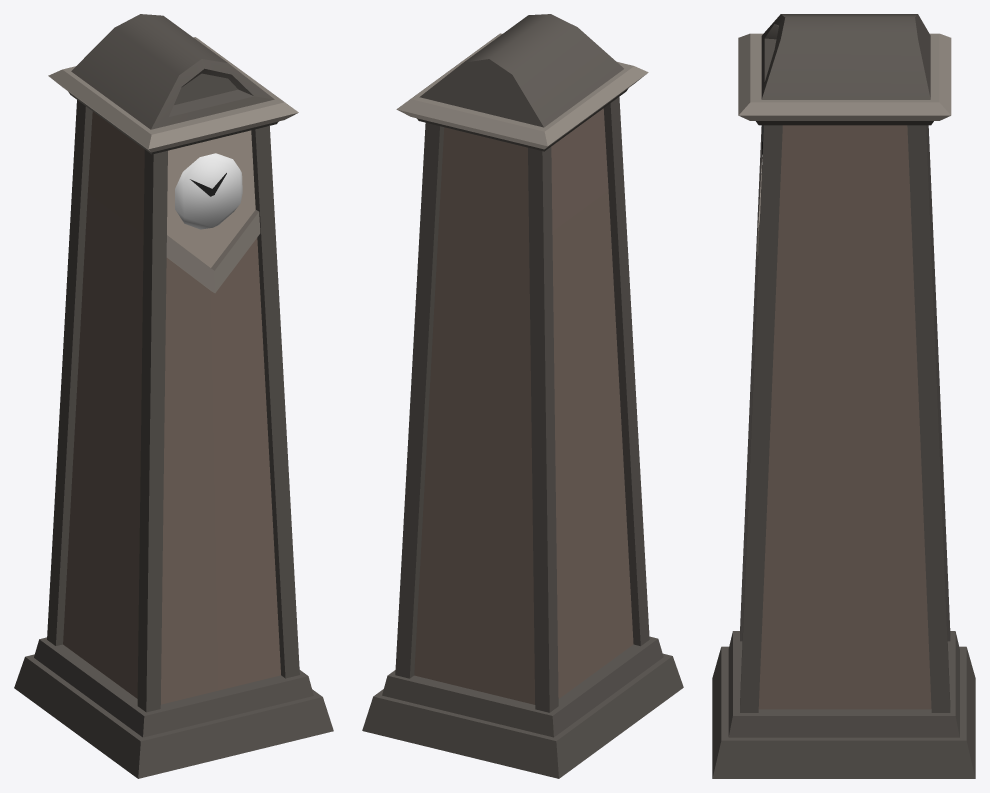
Rendered from clock simple form.fbx.
The picture shows the model from 3 angles, left to right: view 1: azimuth 30°, elevation 25°; view 2: azimuth 150°, elevation 25°; view 3: azimuth 270°, elevation 25°; orthographic projection. The views are drawn at different scales.
Parts seen in each view (by area): view 1: Cube; view 2: Cube; view 3: Cube.
Part boxes in pixels (left/top/right/bottom): Cube: left=14, top=14, right=333, bottom=778; Cube: left=362, top=14, right=683, bottom=778; Cube: left=712, top=14, right=975, bottom=778.
Bounding box in the file's own units: 0.6201 × 2.03 × 0.6811.
